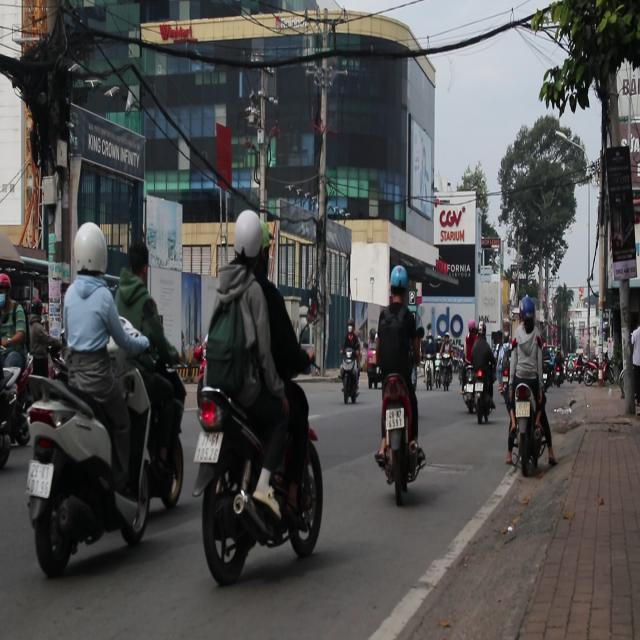motorbike: (192, 351, 324, 589), (20, 349, 152, 576), (375, 369, 428, 503), (507, 375, 557, 482), (0, 342, 36, 469), (474, 362, 494, 428), (340, 352, 360, 405), (366, 349, 380, 391), (462, 359, 474, 406)
